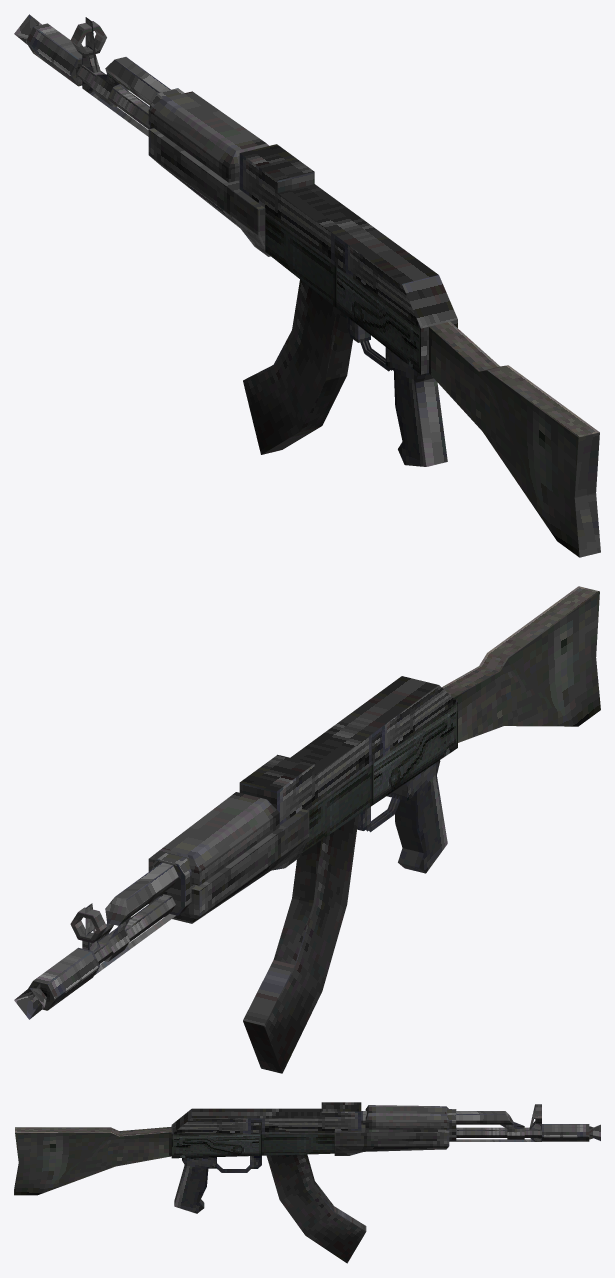
Rendered from recovered_gun_ak105_86ac1f10.glb.
3 views of the same model, one above another, from view 1: azimuth 30°, elevation 25°; view 2: azimuth 150°, elevation 25°; view 3: azimuth 270°, elevation 25° (orthographic). The views are drawn at different scales.
Visible parts, largest first — view 1: Gun_9daf9cdb404d, Gun_0755e9578fac, Gun_e73770932800, Gun_1f5a2b896af9; view 2: Gun_9daf9cdb404d, Gun_0755e9578fac, Gun_e73770932800, Gun_1f5a2b896af9; view 3: Gun_9daf9cdb404d, Gun_0755e9578fac, Gun_e73770932800, Gun_1f5a2b896af9.
Part boxes in pixels (left/top/right/bottom): Gun_9daf9cdb404d: left=14, top=14, right=600, bottom=557; Gun_0755e9578fac: left=429, top=321, right=599, bottom=557; Gun_e73770932800: left=265, top=215, right=420, bottom=374; Gun_1f5a2b896af9: left=239, top=153, right=420, bottom=328; Gun_9daf9cdb404d: left=14, top=676, right=516, bottom=1073; Gun_0755e9578fac: left=442, top=586, right=600, bottom=742; Gun_e73770932800: left=302, top=702, right=457, bottom=852; Gun_1f5a2b896af9: left=277, top=685, right=457, bottom=825; Gun_9daf9cdb404d: left=14, top=1102, right=600, bottom=1263; Gun_0755e9578fac: left=14, top=1126, right=171, bottom=1195; Gun_e73770932800: left=171, top=1134, right=334, bottom=1158; Gun_1f5a2b896af9: left=172, top=1111, right=361, bottom=1134.
Bounding box in the file's own units: 0.0505 × 0.2841 × 0.9643.
Materials: 5 (5 with a texture image).
